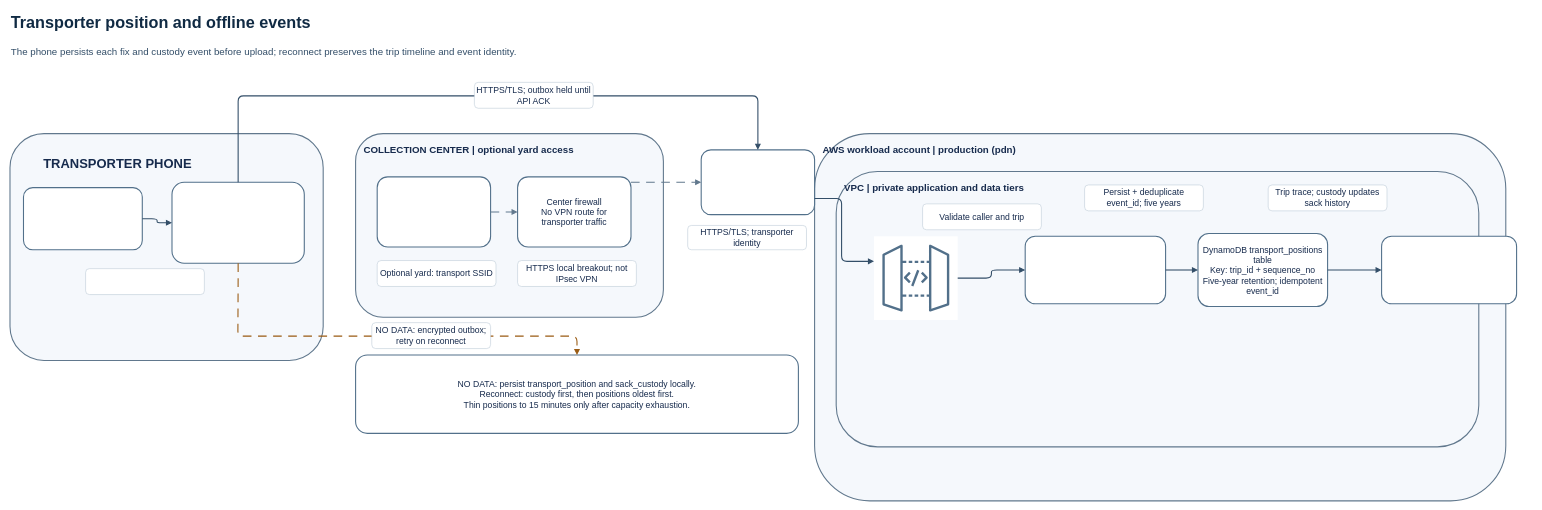
The diagram is 1542 pixels wide and 510 high, and some of its shapes have lost their labels. The centre of each missing label's shape, as x and y in pixels:
API Gateway: (915,278)
Encrypted app outbox No time-based eviction Custody events first on reconnect: (238,222)
GNSS position every 5 minutes while trip is open: (83,218)
Persist event before upload: (144,281)
Position + custody ingestion Validate caller; deduplicate event_id: (1095,269)
Public mobile network and internet: (757,182)
Transport zone 10.4x.4.0/24 Internet-only local breakout: (433,211)
Trip trace + sack history transporter and center ops: (1449,269)
